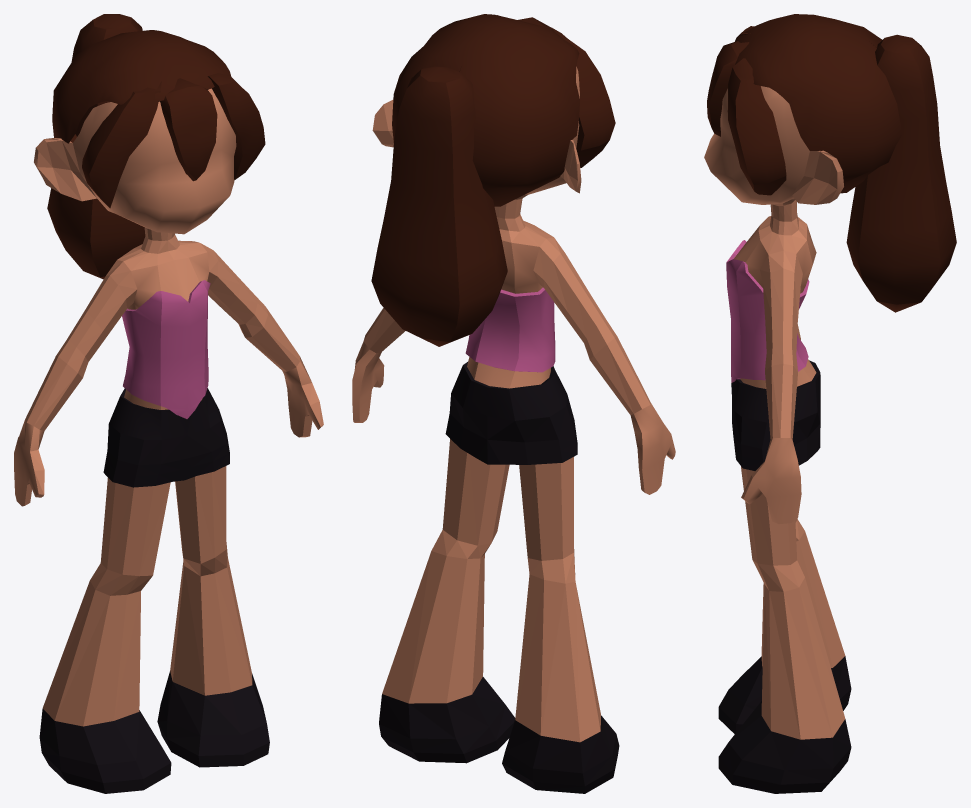
The model's file is chicaCoqueta.fbx.
3 views of the same model, side by side, from view 1: azimuth 30°, elevation 25°; view 2: azimuth 150°, elevation 25°; view 3: azimuth 270°, elevation 25° (orthographic). The views are drawn at different scales.
Visible parts, largest first — view 1: Box001; view 2: Box001; view 3: Box001.
Boxes of the visible parts, x1=… form: Box001: x1=14, y1=14, x2=323, y2=793; Box001: x1=352, y1=14, x2=675, y2=793; Box001: x1=704, y1=14, x2=956, y2=793.
Size of the model in its own units: 62.09 by 145 by 46.08.
